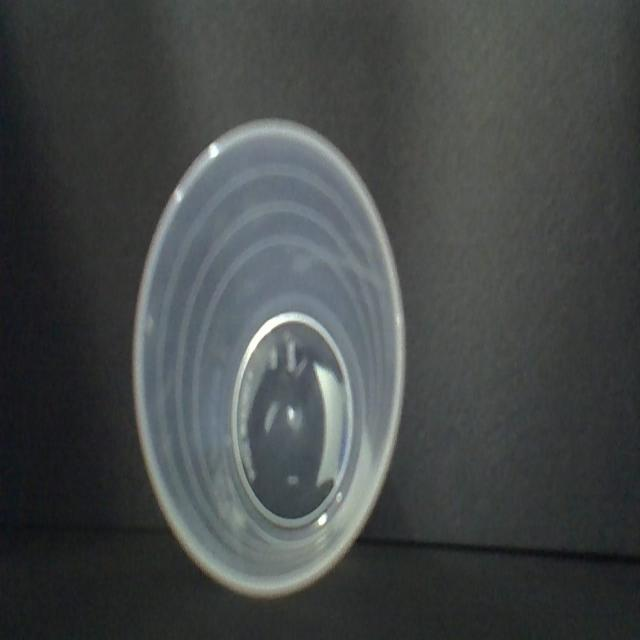cup: (125, 112, 414, 606)
